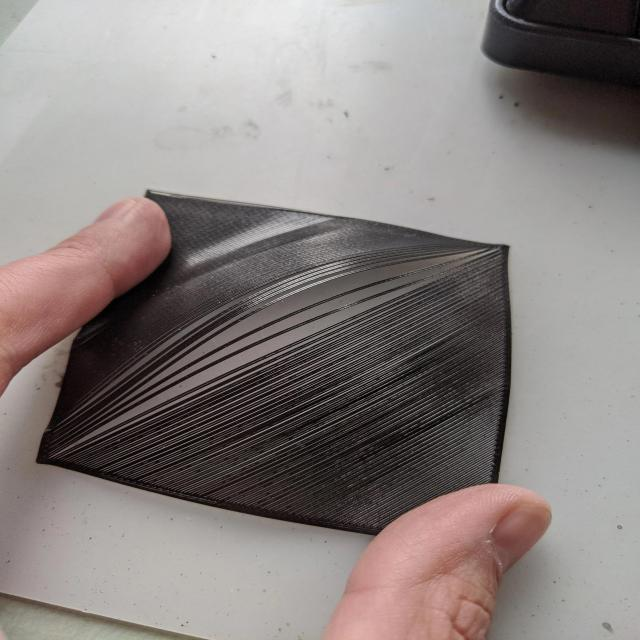spaghetti: (30, 237, 524, 470)
